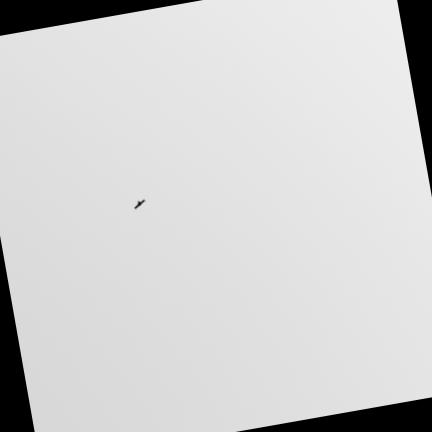Shahed: (134, 197, 147, 210)
